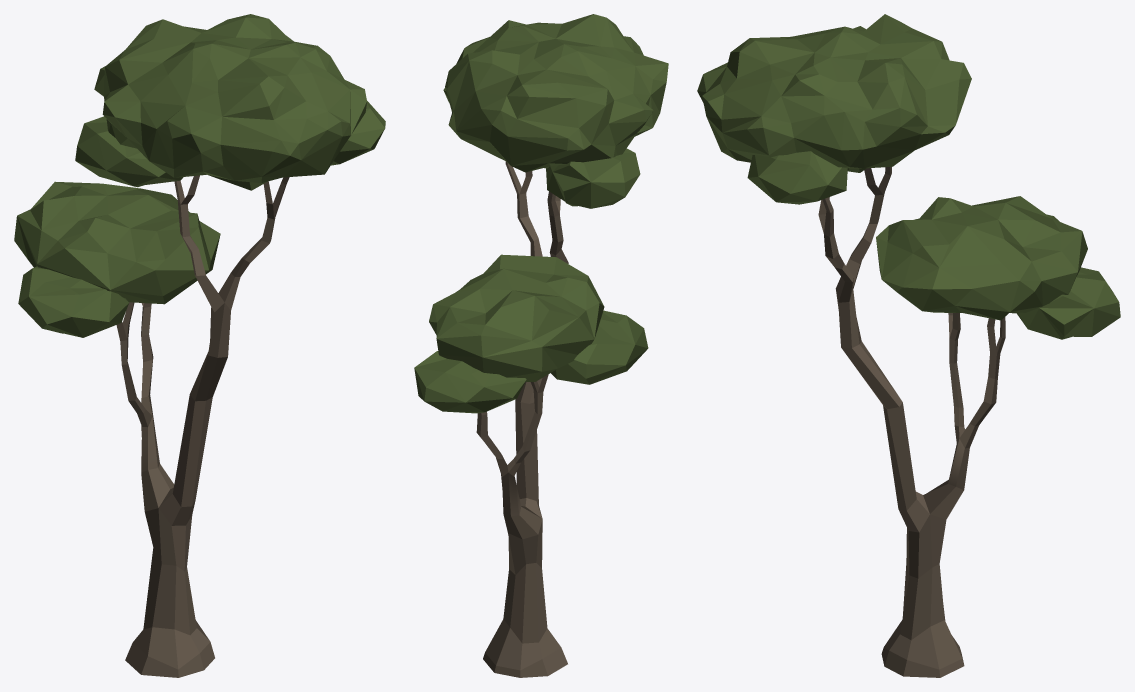
The model's file is tree_61.fbx.
3 renders of one model, left to right at view 1: azimuth 30°, elevation 25°; view 2: azimuth 150°, elevation 25°; view 3: azimuth 270°, elevation 25°, orthographic. The views are drawn at different scales.
Parts seen in each view (by area): view 1: tree_061; view 2: tree_061; view 3: tree_061.
Boxes of the visible parts, <box> form: tree_061: <box>14,14,385,677</box>; tree_061: <box>414,14,668,677</box>; tree_061: <box>697,14,1120,677</box>.
Bounding box in the file's own units: 0.6068 × 1.35 × 0.8233.
1 material, 1 textured.
